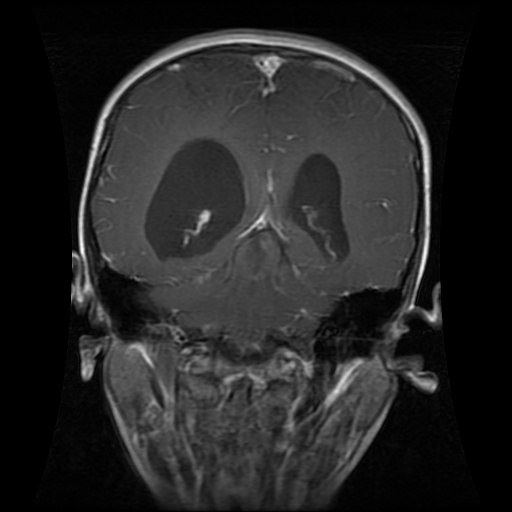glioma: (141, 134, 250, 266)
